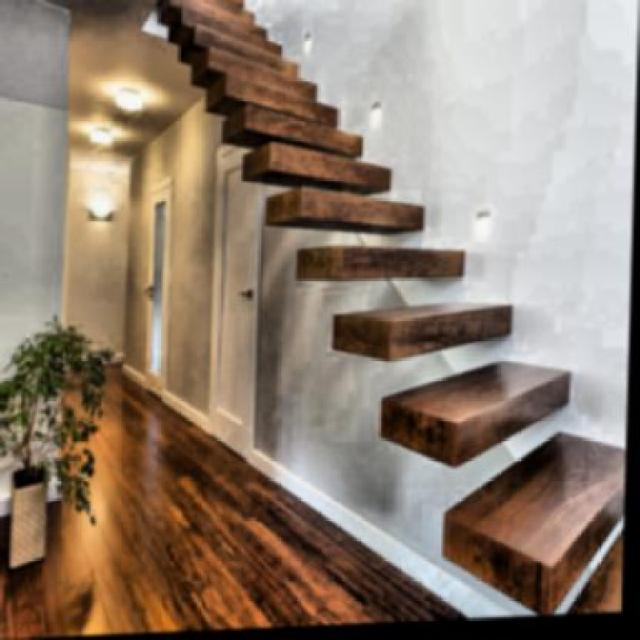stair: (237, 0, 638, 468)
